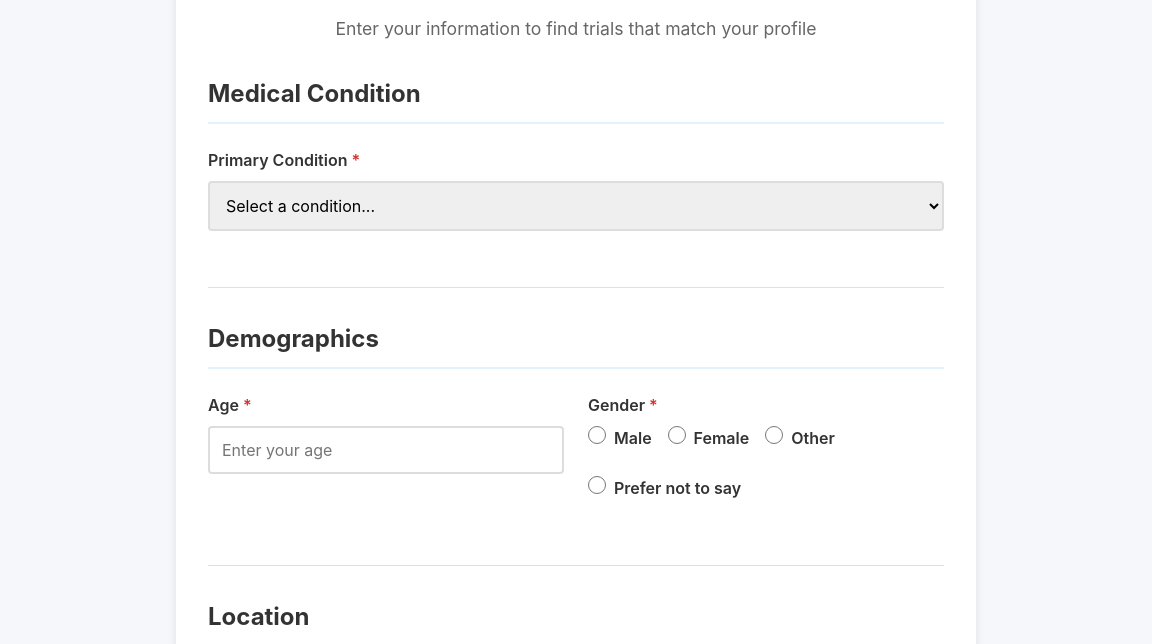
PatientProfileForm › Form Validation - Age Range › shows error when age is less than 0
The image size is (1152, 644).
Type "-5" into the number field labelled "Age *" at [386, 450], box top-left (208, 426), bottom-right (564, 474)
(page scrolled)
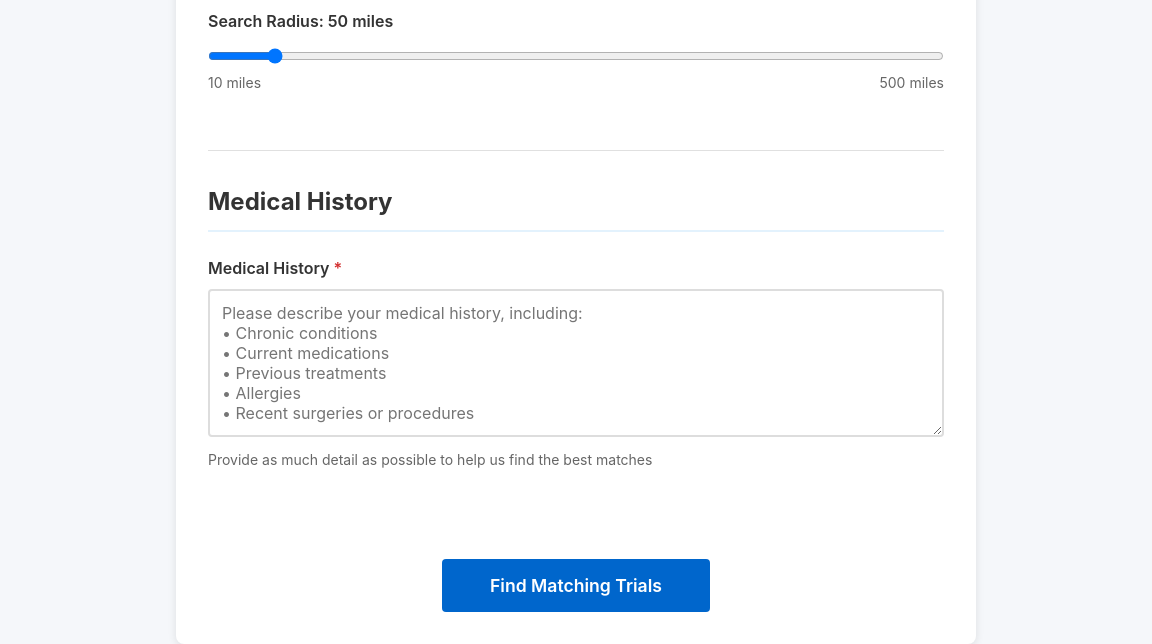
Click the button "Find Matching Trials" at [576, 586], box top-left (442, 559), bottom-right (710, 612)
(page scrolled)
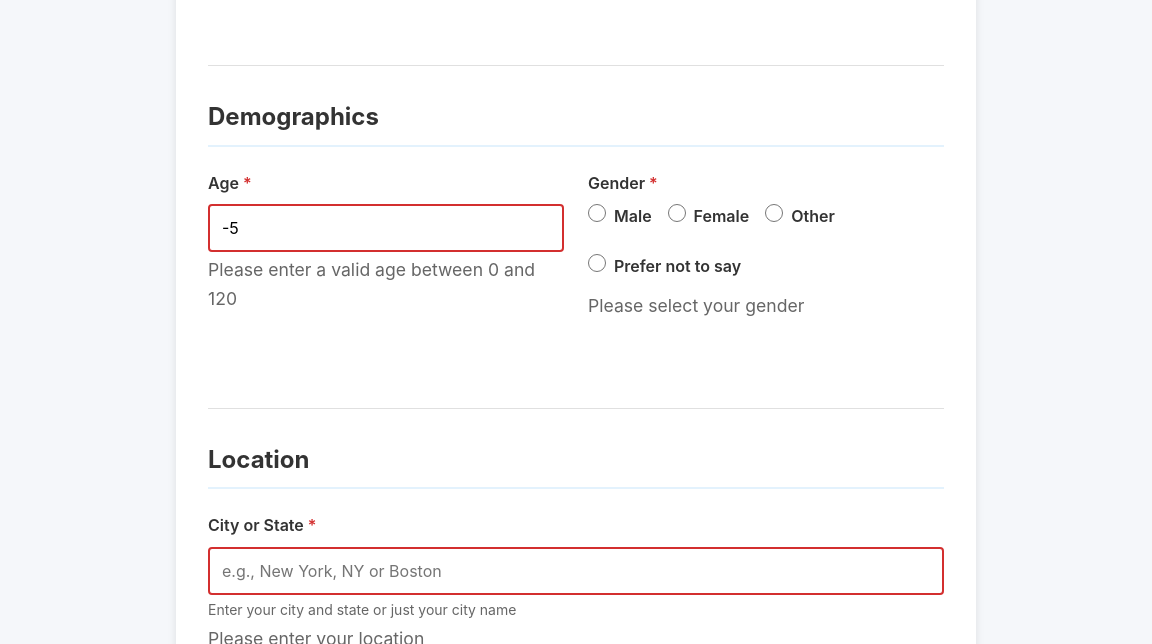
Result: the text "Please enter a valid age between 0 and 120" is shown at top-left (208, 256), bottom-right (564, 313)
